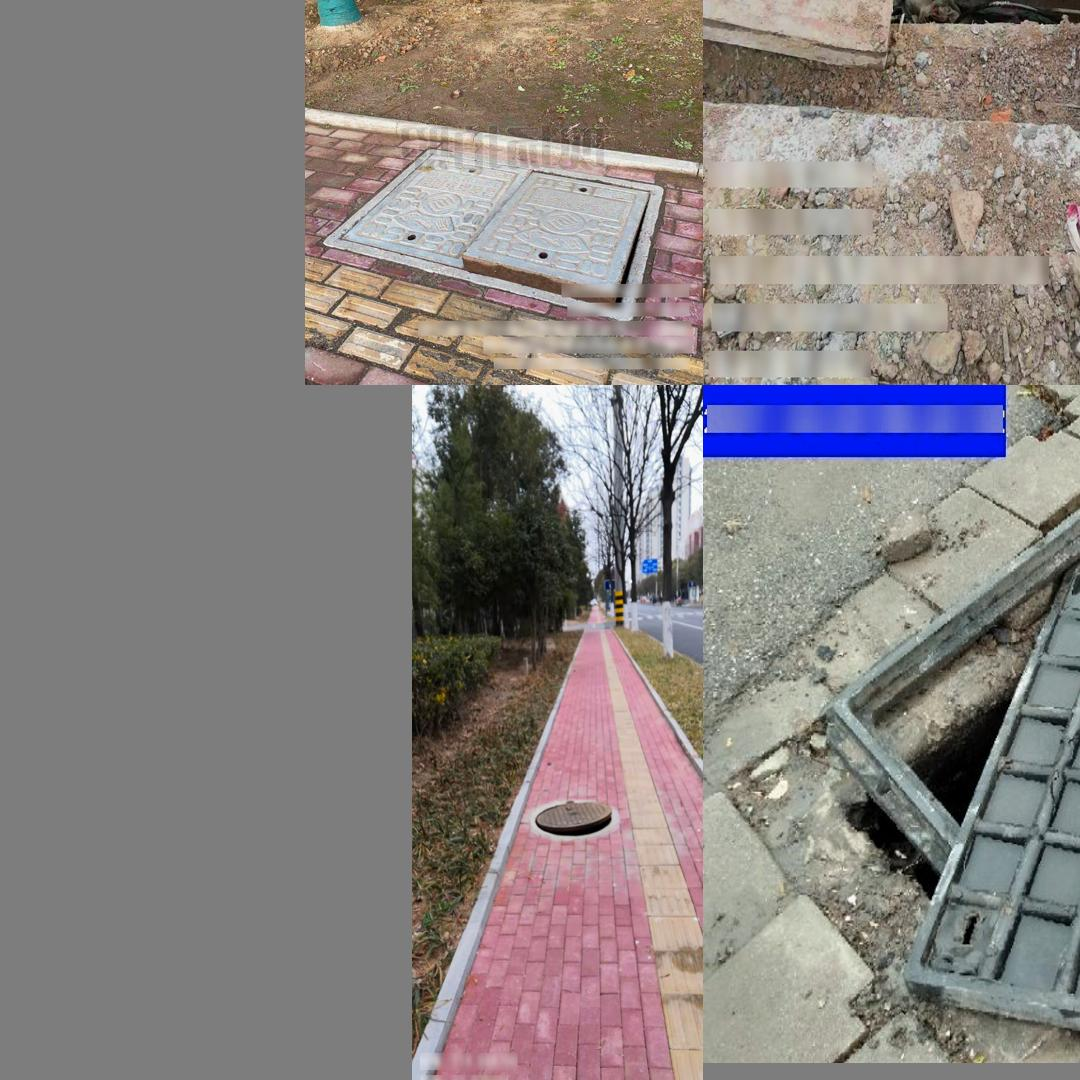uncovered: (820, 420, 1080, 1054), (319, 148, 664, 323), (703, 0, 1080, 114), (532, 799, 615, 838)
